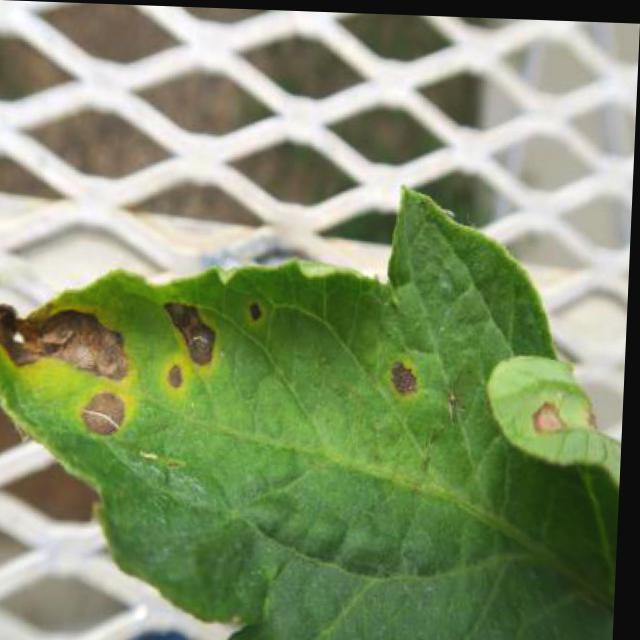Tomato Early blight leaf: (0, 180, 633, 639)
